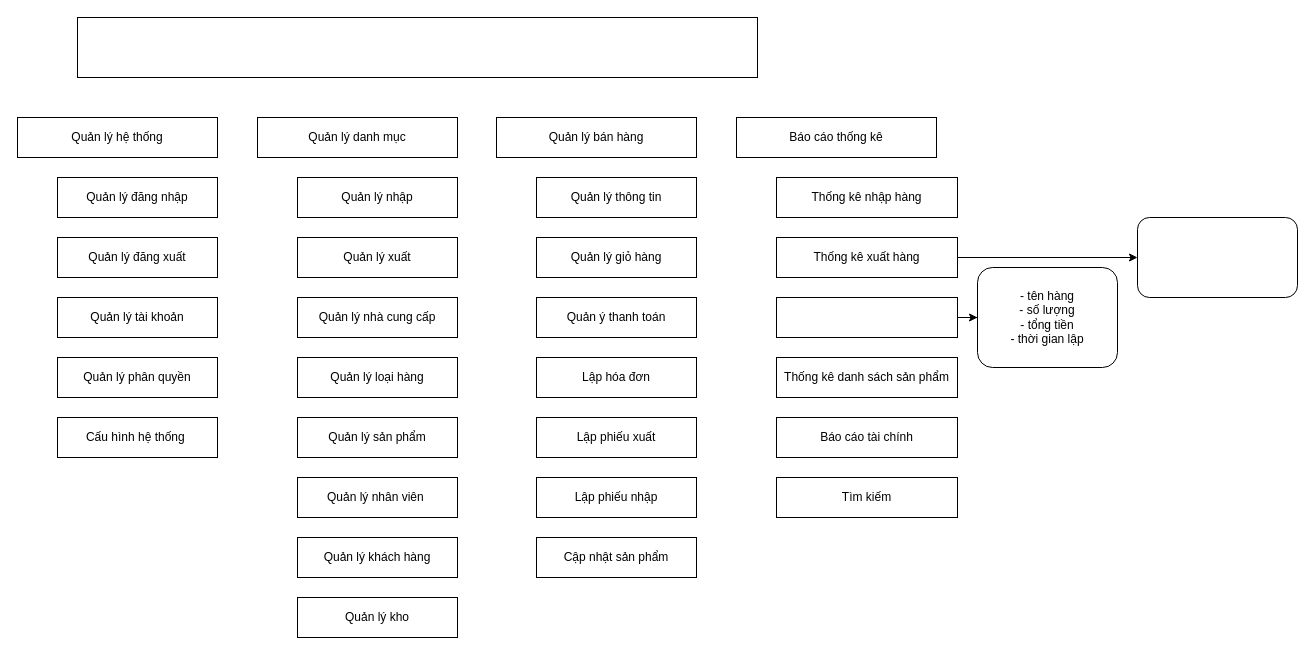
The diagram is 1315 pixels wide and 655 high, and some of its shapes have lost their labels. Each missing label, with the centre of its shape:
- tên hàng - sốlượng - thời gian xuất: the point at 1217,257
Quản lý bán hàng cho VNPT Hải Phòng: the point at 417,47
Thống kê danh sách hóa đơn: the point at 867,317
